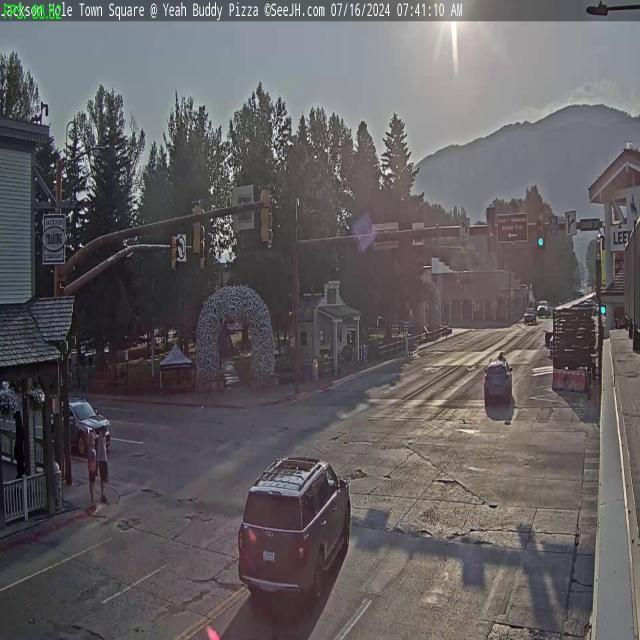person: (86, 430, 100, 502), (96, 428, 108, 502)
suv: (235, 453, 354, 627), (44, 396, 110, 454), (484, 353, 516, 408), (524, 308, 538, 324)
traffic light: (190, 199, 203, 256), (260, 184, 272, 244), (486, 207, 496, 254), (167, 231, 179, 269), (536, 214, 546, 248)
